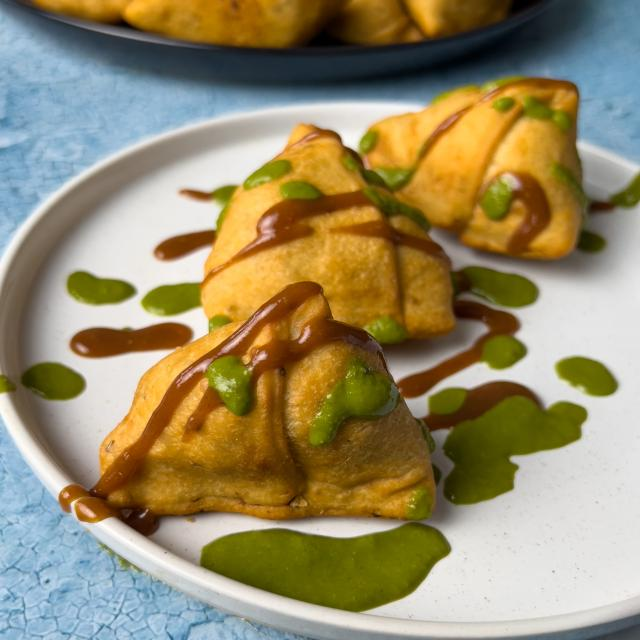SAMOSA: (109, 278, 449, 528), (203, 120, 456, 340), (357, 79, 589, 267)
